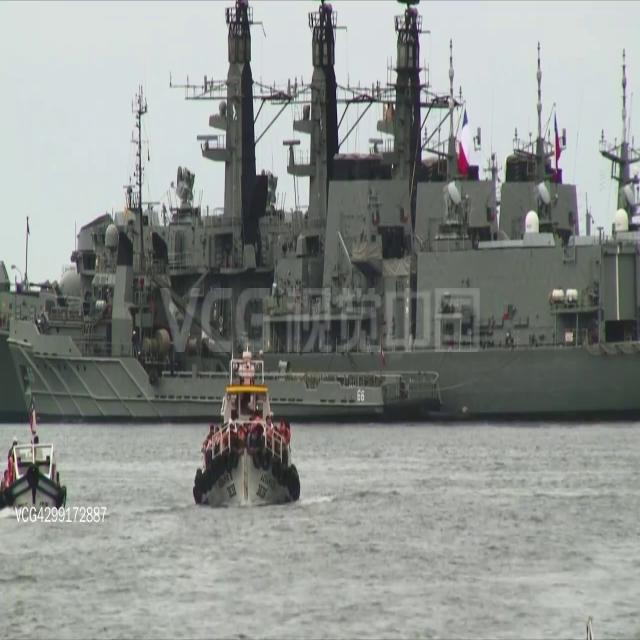houseboat: (188, 347, 297, 508), (0, 391, 68, 517)
navalvessels: (0, 6, 640, 430)
